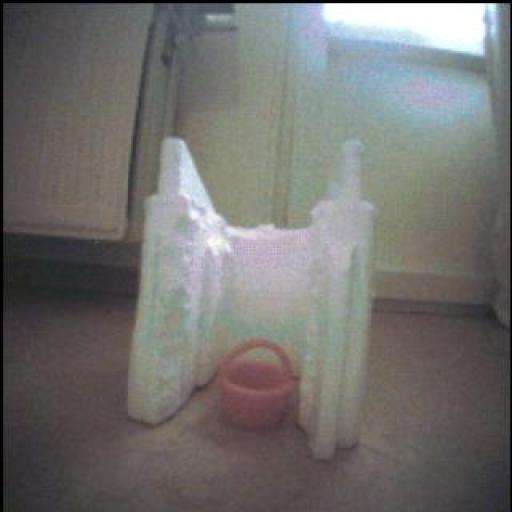Basket: (221, 340, 296, 430)
